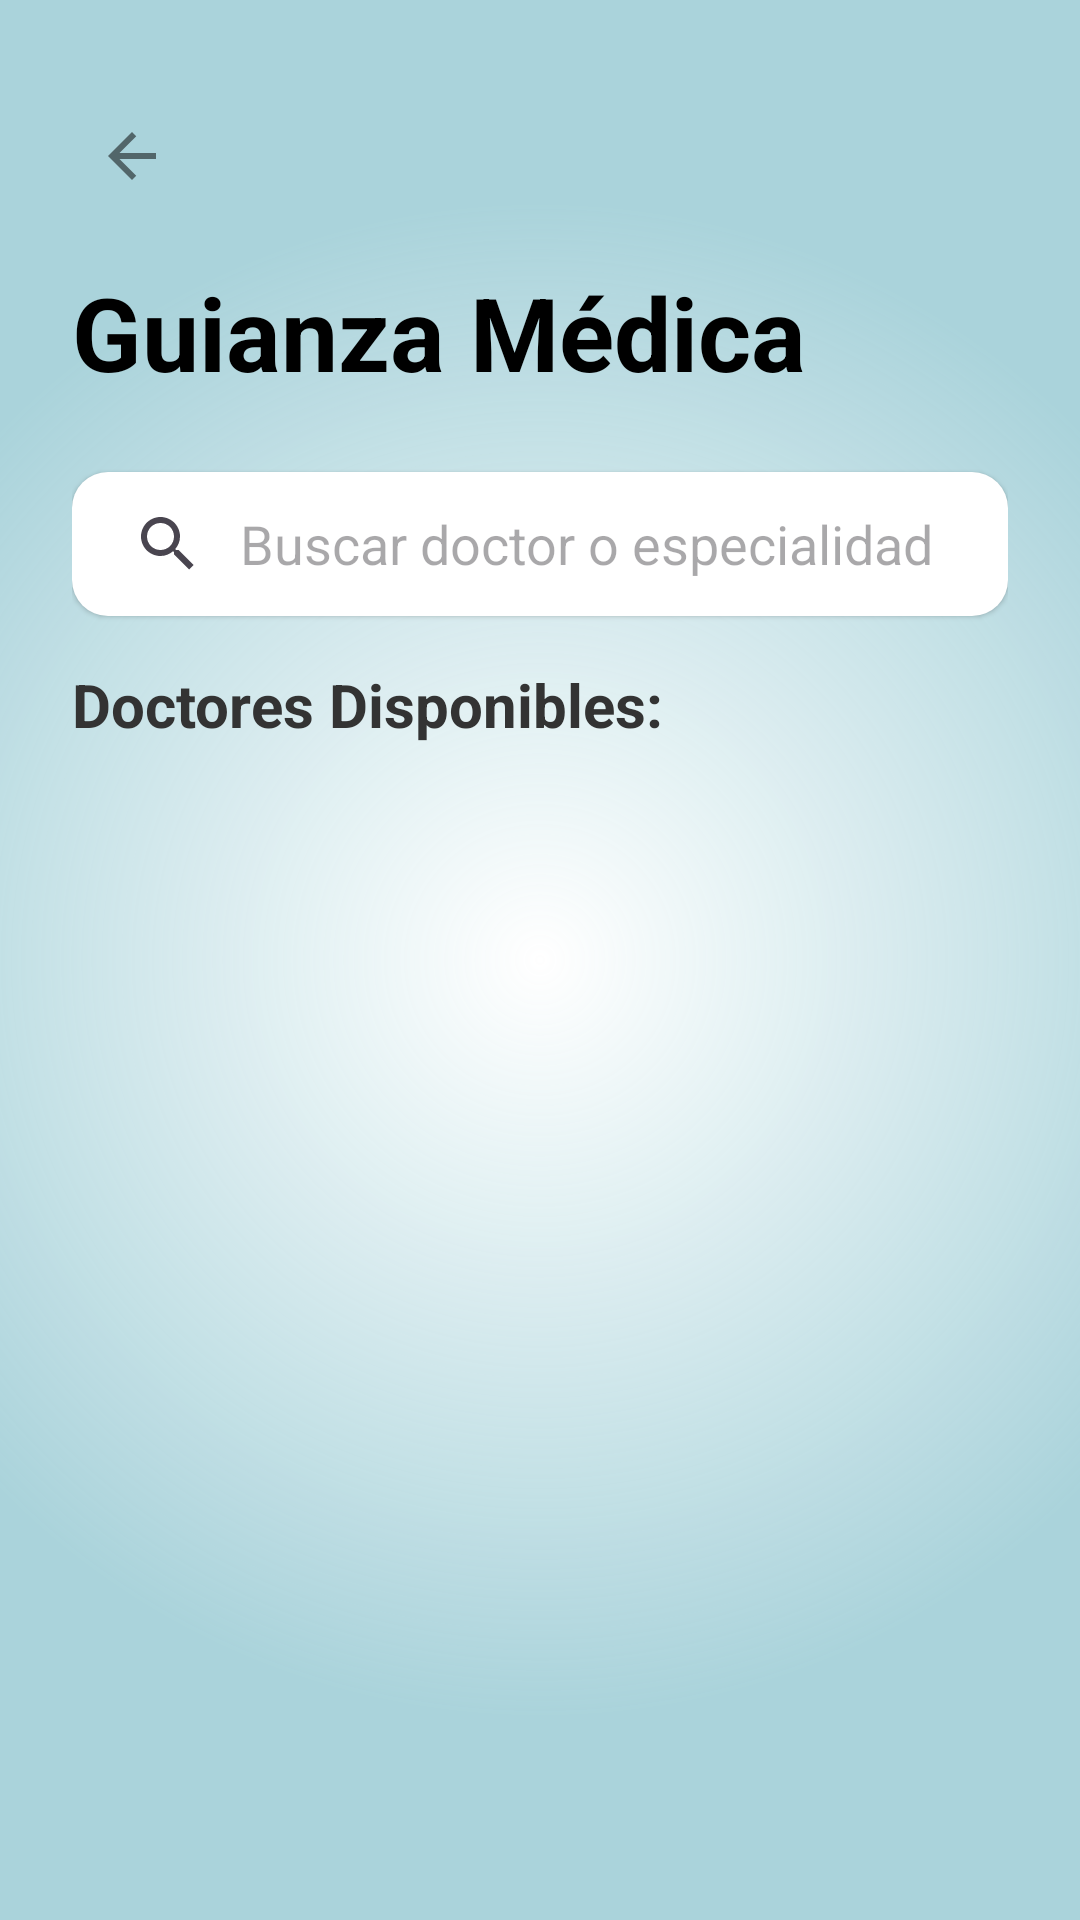

Icons on this 1080×1920 Android screen, each with its box as (x1, y1, x2, y2):
Go back: (108, 132, 156, 180)
